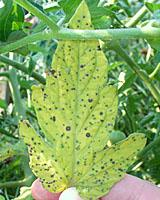Tomato Septoria leaf spot: (16, 2, 149, 196)
